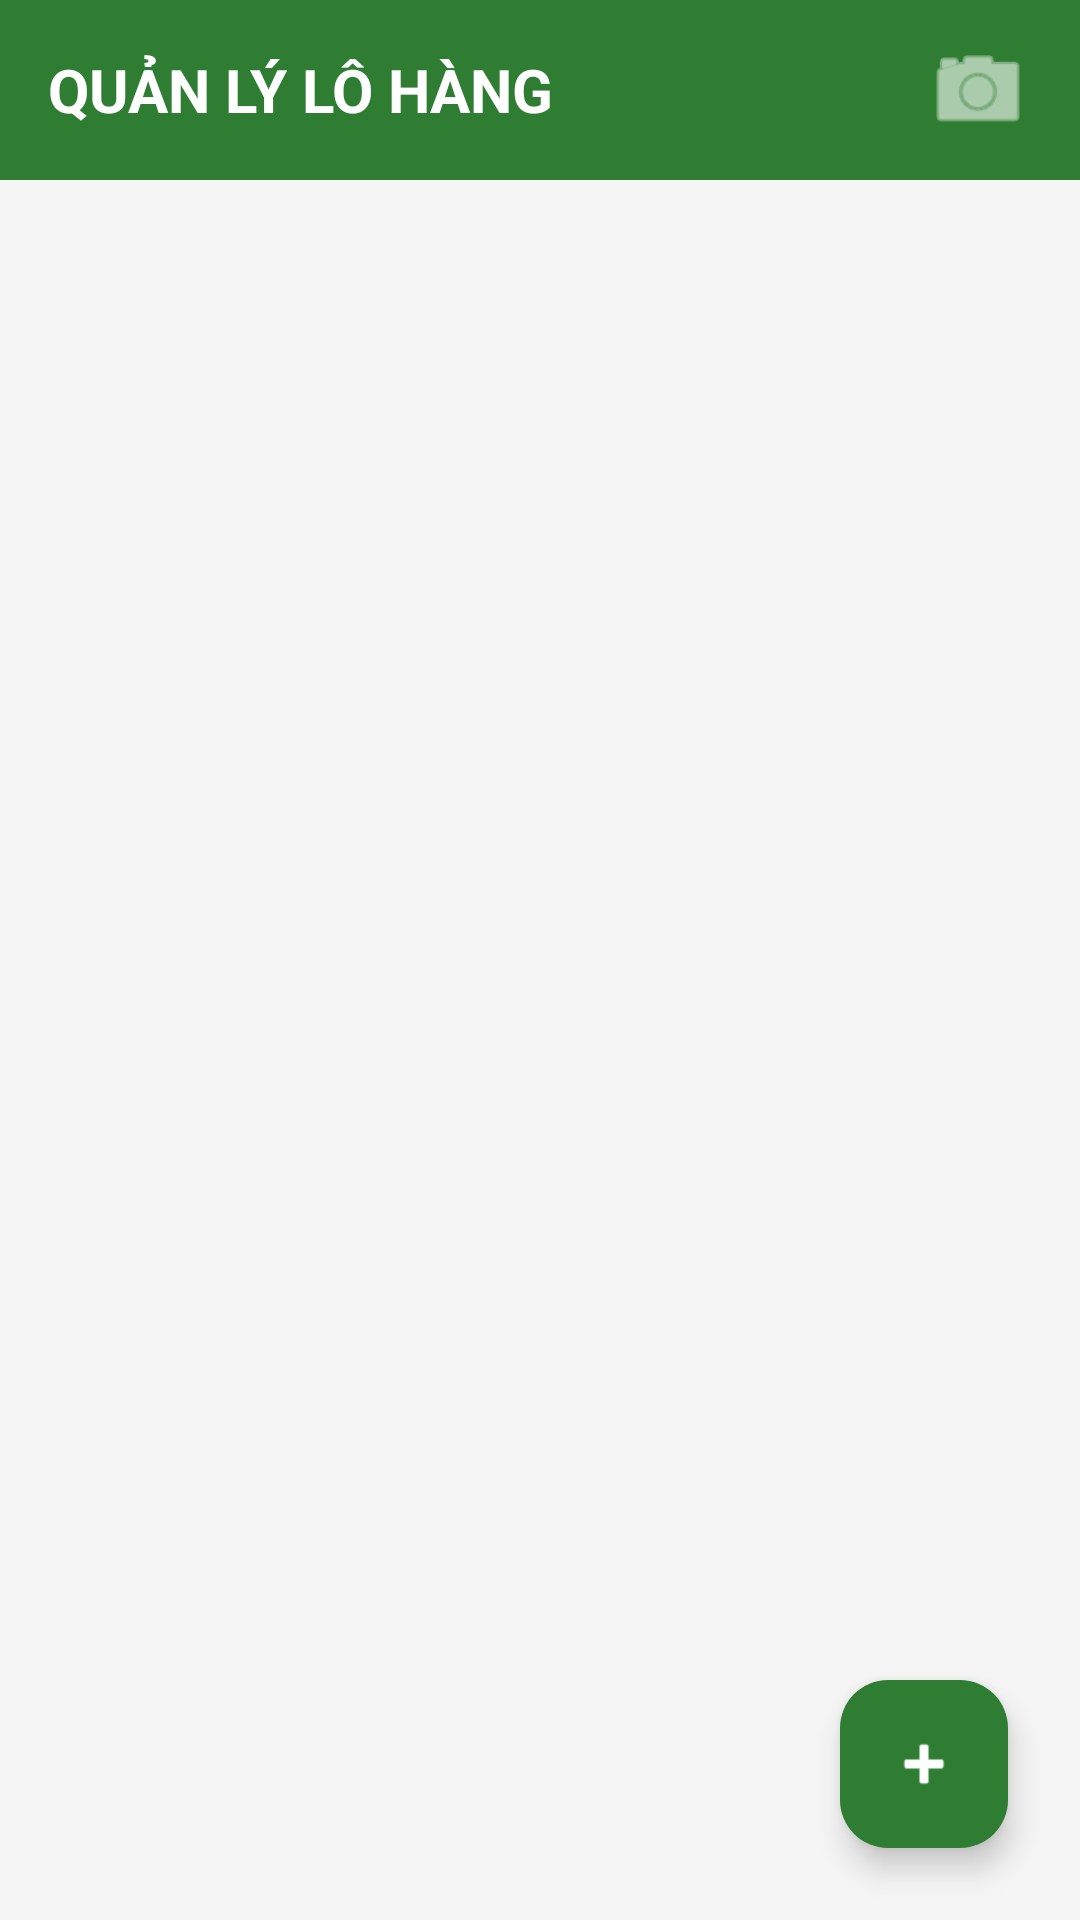

Where icons sit on this 1080x1920 app screen, as (x1=x1, y1=y1, x2=x2, y2=y2):
camera: (x1=936, y1=55, x2=1020, y2=122)
Thêm lô hàng: (x1=840, y1=1680, x2=1008, y2=1848)
